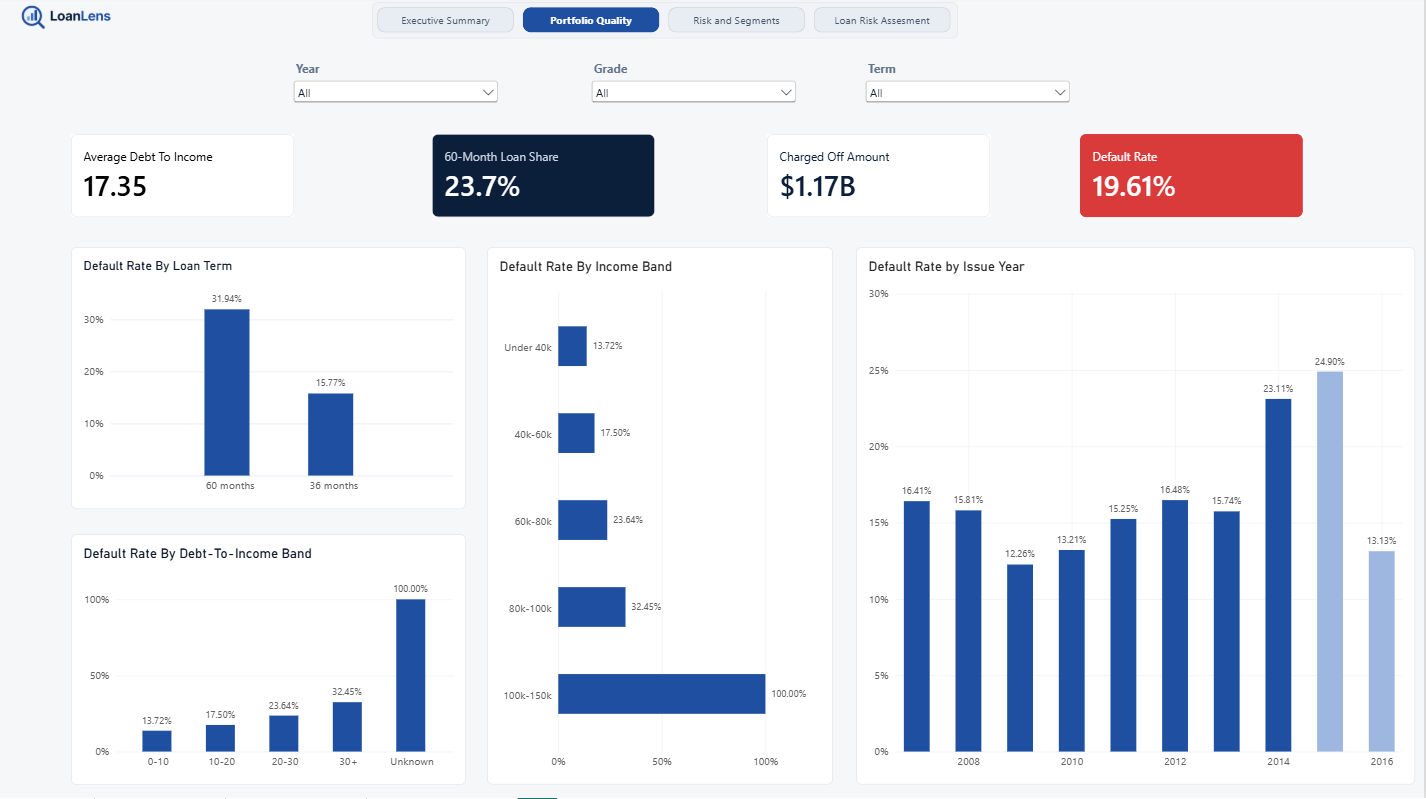

This screenshot's page, from the dashboard's own definition file:
{"tool":"powerbi","page":{"name":"Portfolio Quality","canvas":[1920,1080],"ordinal":1},"visuals":[{"type":"pageNavigator","title":"Execut","box":[501.7,8.3,788.6,48.6],"z":0},{"type":"image","box":[16,8,152,40],"z":1000},{"type":"slicer","fields":{"Values":["dim_date.year"]},"box":[384.3,78.6,301.4,82.9],"z":2000},{"type":"slicer","fields":{"Values":["dim_grade.credit_grade"]},"box":[785.7,78.6,301.4,85.7],"z":3000},{"type":"slicer","fields":{"Values":["dim_term.term_label"]},"box":[1154.3,78.6,301.4,107.1],"z":4000},{"type":"cardVisual","fields":{"Data":["_Measures.Default Rate"]},"box":[1456.6,185.4,451.4,112.2],"z":5000},{"type":"cardVisual","fields":{"Data":["_Measures.Charged Off Amount Card"]},"box":[1034.5,185.4,400.1,112.2],"z":7000},{"type":"cardVisual","fields":{"Data":["_Measures.Average Debt To Income"]},"box":[97.6,185.4,456.2,112.2],"z":9000},{"type":"cardVisual","fields":{"Data":["_Measures.60-Month Loan Share"]},"box":[583.1,185.4,429.4,112.2],"z":11000},{"type":"clusteredColumnChart","title":"Default Rate By Loan Term","fields":{"Category":["dim_term.term_label"],"Y":["_Measures.Default Rate"]},"box":[97,338,531.9,352.8],"z":13000},{"type":"clusteredColumnChart","title":"Default Rate By Debt-To-Income Band","fields":{"Category":["dim_dti_band.dti_band"],"Y":["_Measures.Default Rate"]},"box":[97,724.5,531.9,338],"z":14000},{"type":"clusteredBarChart","title":"Default Rate By Income Band","fields":{"Category":["dim_income_band.income_band"],"Y":["_Measures.Default Rate"]},"box":[657.2,338,465.9,724.5],"z":15000},{"type":"clusteredColumnChart","title":"Default Rate by Issue Year","fields":{"Category":["dim_date.year"],"Y":["_Measures.Default Rate"]},"box":[1154.1,338,752.8,724.5],"z":16000}]}

Visuals, with their boxes in screenshot pixels (x1, y1, x2, y2), scaled from the page's 1920x1080 canvas onto the 1426x799 screenshot:
"Execut" pageNavigator: <box>373,6,958,42</box>
image: <box>12,6,125,36</box>
slicer - dim_date.year: <box>285,58,509,119</box>
slicer - dim_grade.credit_grade: <box>584,58,807,122</box>
slicer - dim_term.term_label: <box>857,58,1081,137</box>
cardVisual - _Measures.Default Rate: <box>1082,137,1417,220</box>
cardVisual - _Measures.Charged Off Amount Card: <box>768,137,1065,220</box>
cardVisual - _Measures.Average Debt To Income: <box>72,137,411,220</box>
cardVisual - _Measures.60-Month Loan Share: <box>433,137,752,220</box>
"Default Rate By Loan Term" clusteredColumnChart: <box>72,250,467,511</box>
"Default Rate By Debt-To-Income Band" clusteredColumnChart: <box>72,536,467,786</box>
"Default Rate By Income Band" clusteredBarChart: <box>488,250,834,786</box>
"Default Rate by Issue Year" clusteredColumnChart: <box>857,250,1416,786</box>
